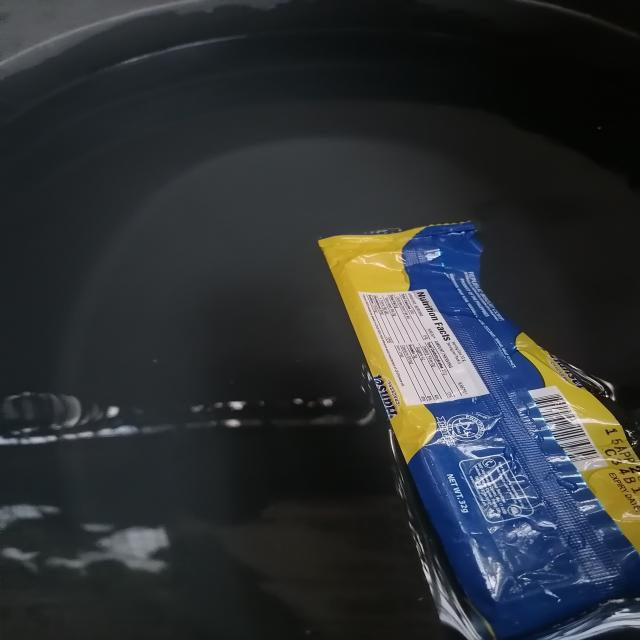Plastic Wrapper: (319, 222, 640, 640)
